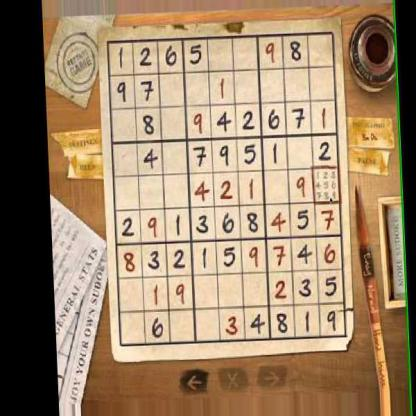sudoku: (105, 29, 350, 349)
